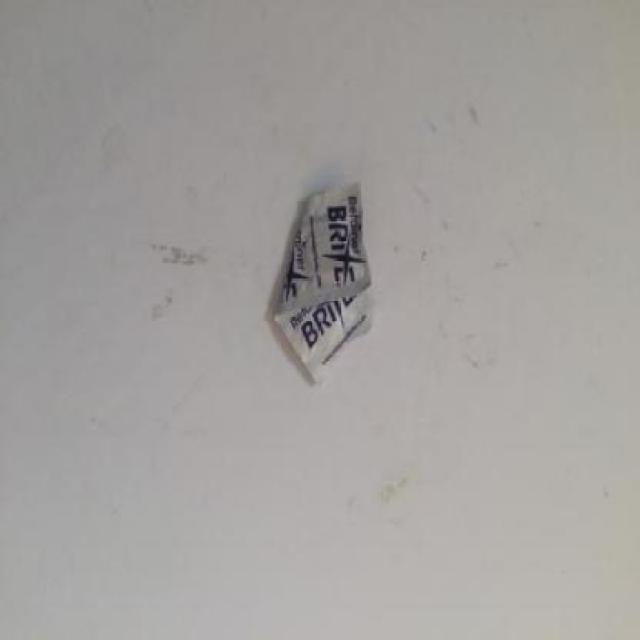PLASTIC: (274, 183, 374, 382)
